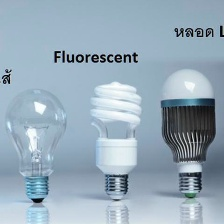light_bulb: (157, 65, 220, 206), (2, 84, 70, 207), (88, 79, 145, 204)
